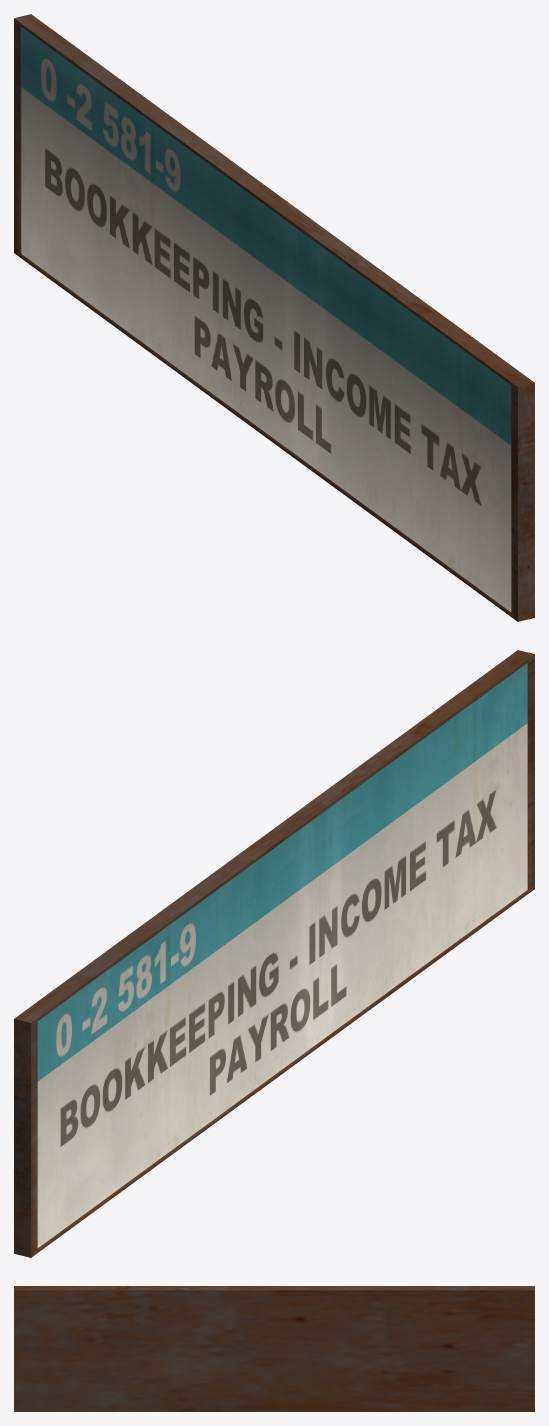
File: Ban03.fbx
3 views of the same model, one above another, from view 1: azimuth 30°, elevation 25°; view 2: azimuth 150°, elevation 25°; view 3: azimuth 270°, elevation 25° (orthographic). The views are drawn at different scales.
Parts seen in each view (by area): view 1: Ban01 (3); view 2: Ban01 (3); view 3: Ban01 (3).
Part boxes in pixels (bbox=[...]): Ban01 (3): bbox=[14, 14, 534, 621]; Ban01 (3): bbox=[14, 650, 534, 1257]; Ban01 (3): bbox=[14, 1286, 534, 1411].
Size of the model in its own units: 4.74 by 62.16 by 242.
